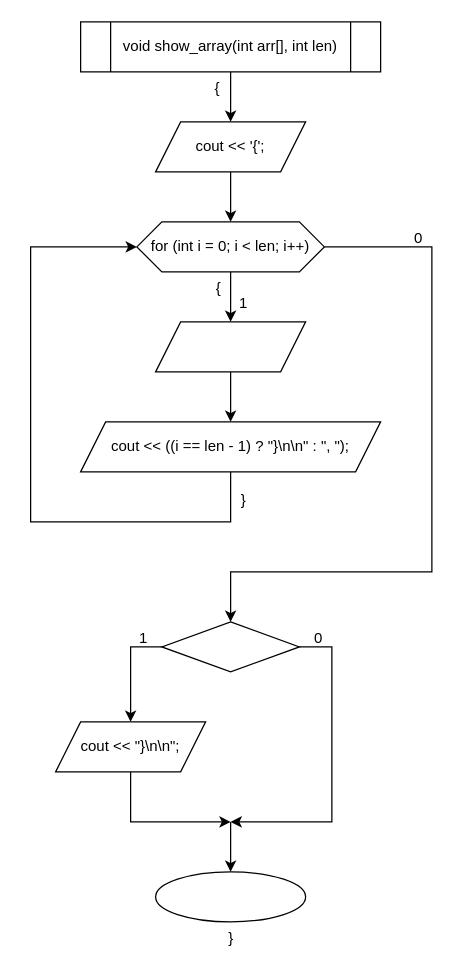
This 464x979 diagram has some shape labels left out. The shapes that lost their labels are listed below. From the top down, each one's box as (x1, y1, x2, y2) in pixels, then its label:
(154, 321, 306, 372): cout << arr[i];
(161, 621, 299, 672): if (len == 0)
(154, 871, 306, 922): return;
